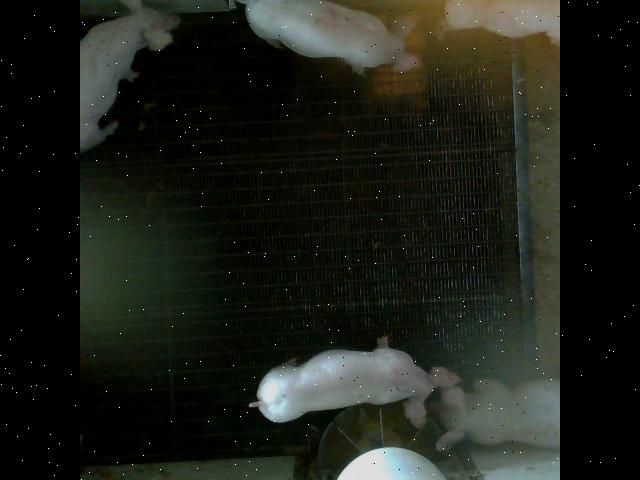pig-4: (229, 0, 421, 74)
